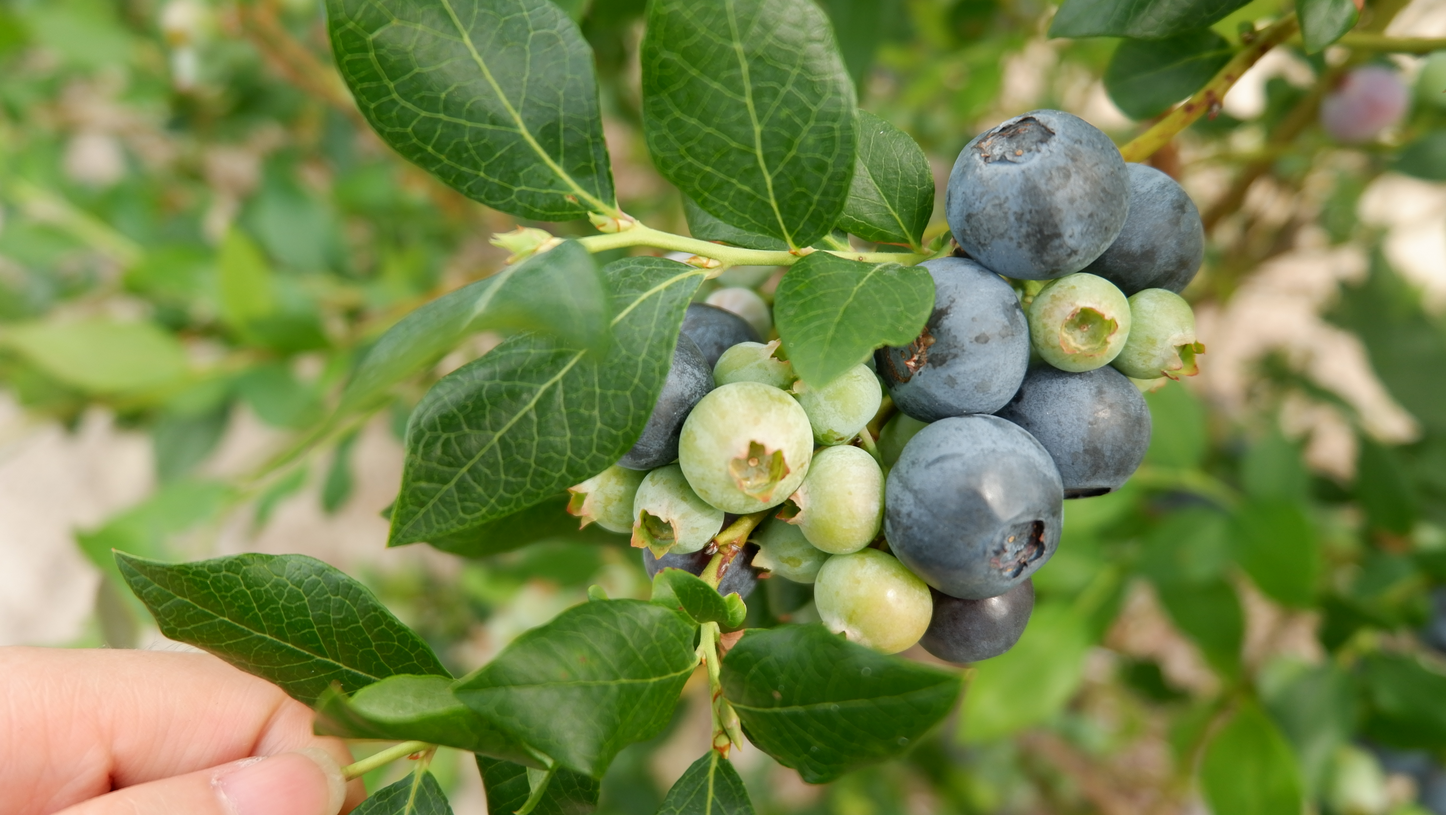Immature: (678, 381, 813, 514), (813, 547, 934, 655), (775, 445, 884, 555), (1026, 273, 1131, 373), (631, 463, 724, 560), (1109, 288, 1204, 381), (785, 364, 882, 447), (742, 502, 833, 584), (566, 462, 659, 534), (712, 337, 798, 391)
Mature: (883, 414, 1064, 597), (946, 110, 1131, 281), (874, 256, 1033, 421), (989, 364, 1149, 499), (1076, 162, 1206, 300), (618, 328, 717, 470), (918, 576, 1034, 662), (679, 301, 765, 376), (643, 545, 758, 599)
